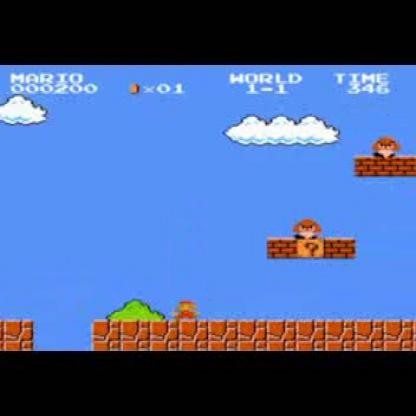Goomba: (292, 216, 324, 240), (372, 132, 399, 157)
Hoyo: (28, 317, 96, 352)
